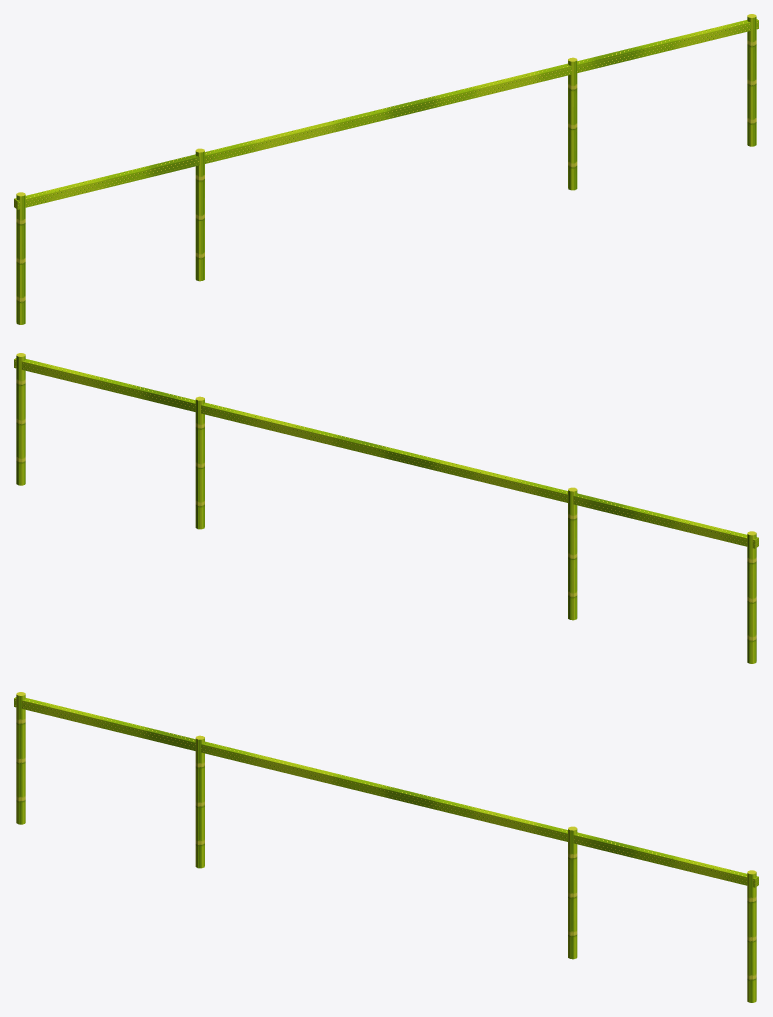
Rendered from gate-21-north-gate-frame-DLGD7vKm.glb.
3 views of the same model, one above another, from view 1: azimuth 30°, elevation 25°; view 2: azimuth 150°, elevation 25°; view 3: azimuth 330°, elevation 25° (orthographic).
Visible parts, largest first — view 1: HI_Gate_21_north-gate_frame; view 2: HI_Gate_21_north-gate_frame; view 3: HI_Gate_21_north-gate_frame.
Boxes of the visible parts, bbox=[...] form: HI_Gate_21_north-gate_frame: bbox=[14, 14, 758, 324]; HI_Gate_21_north-gate_frame: bbox=[14, 353, 758, 663]; HI_Gate_21_north-gate_frame: bbox=[14, 692, 758, 1002].
Bounding box in the file's own units: 21.1 × 3.5 × 0.24.
1 material, 1 textured.
